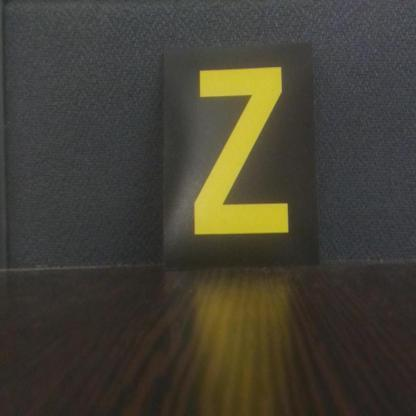z: (165, 50, 317, 263)
